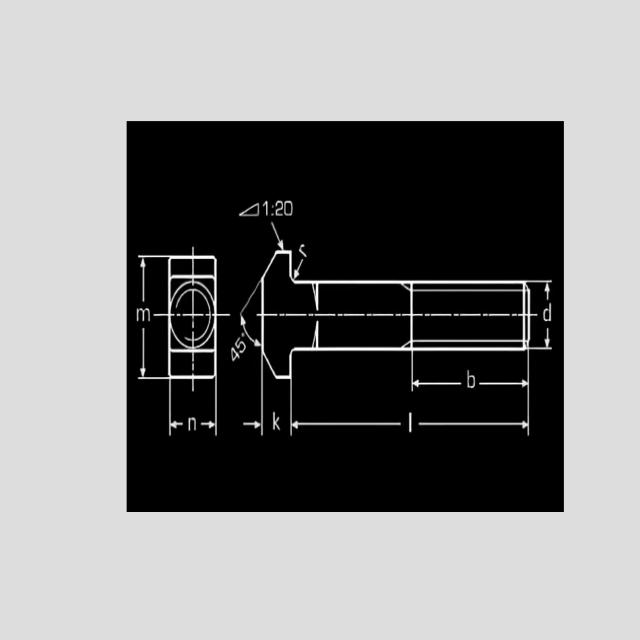marking_line: (411, 353, 533, 438), (290, 379, 403, 436), (410, 353, 464, 392), (478, 352, 531, 389), (244, 359, 265, 436), (137, 327, 166, 380), (239, 279, 261, 347), (137, 254, 166, 303), (200, 382, 221, 441), (168, 381, 185, 437), (531, 278, 553, 302), (530, 328, 552, 351), (271, 220, 285, 250), (294, 258, 305, 279)
numeric: (283, 200, 294, 216), (235, 337, 245, 354), (275, 199, 284, 215), (231, 348, 240, 361), (263, 200, 268, 217)
